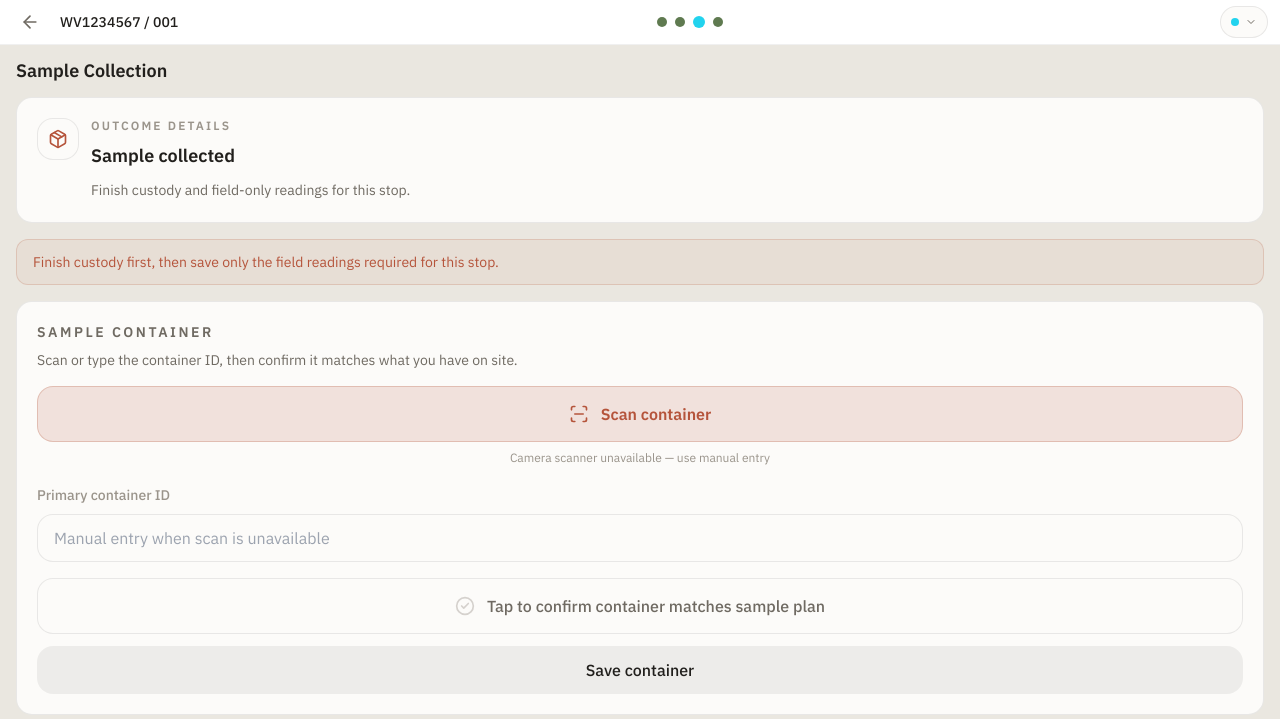
Test case: FieldVisitPage wizard › preserves inspection notes across back and next navigation
The width and height of the screenshot is (1280, 719).
Check: the navigation bar named "Field visit wizard progress" is shown, box [657,16,741,28]
Click the button named "Site Assessment".
click(680, 22)  # box [675,17,685,27]
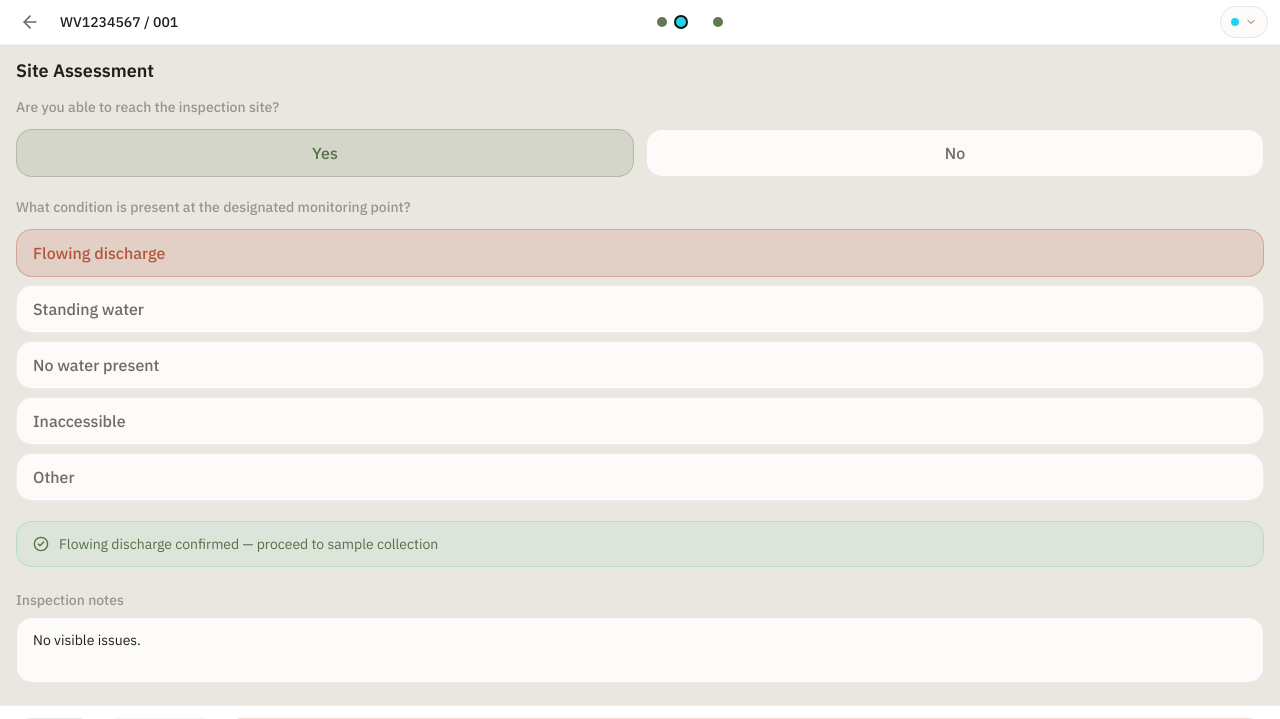
Check: the heading "Site Assessment" is shown, box [16,59,154,82]
Replace the text in the text box labelled "Inspection notes" with "Custom inspection note for persistence test." at (640, 650), box [16,617,1264,683]
(page scrolled)
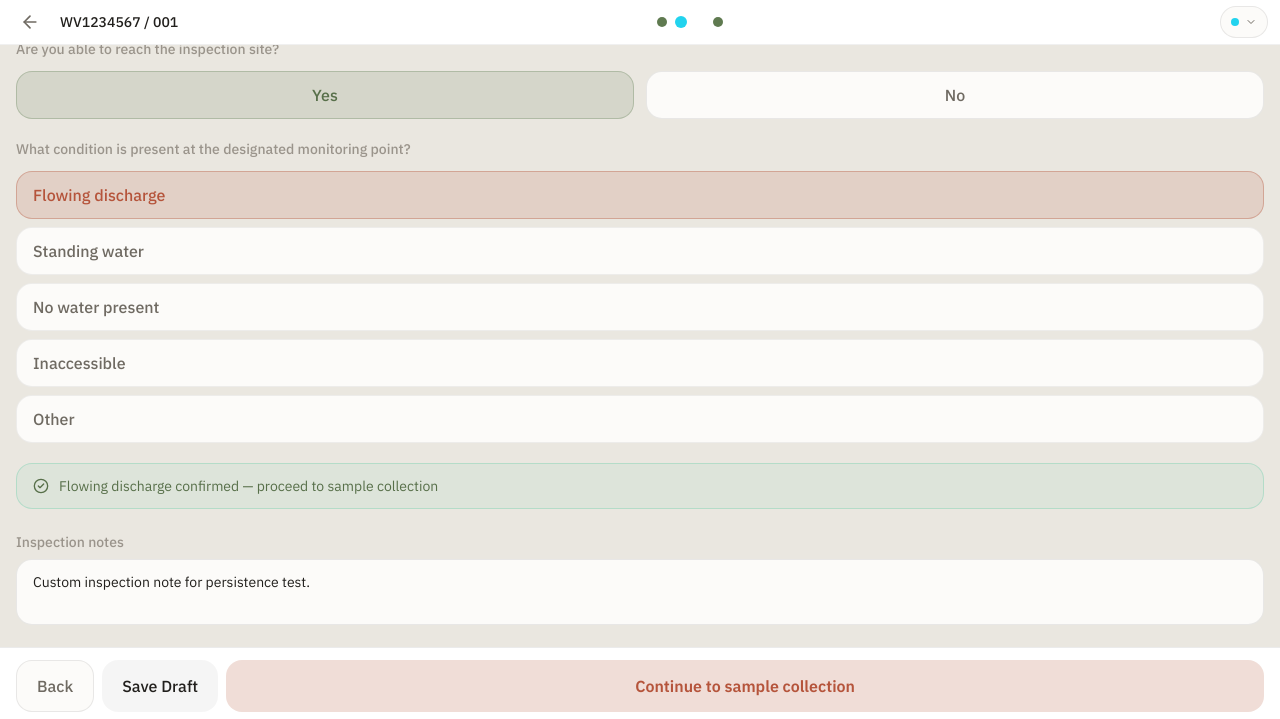
Click the button "Back".
click(55, 686)  # box [16,660,94,712]
(page scrolled)
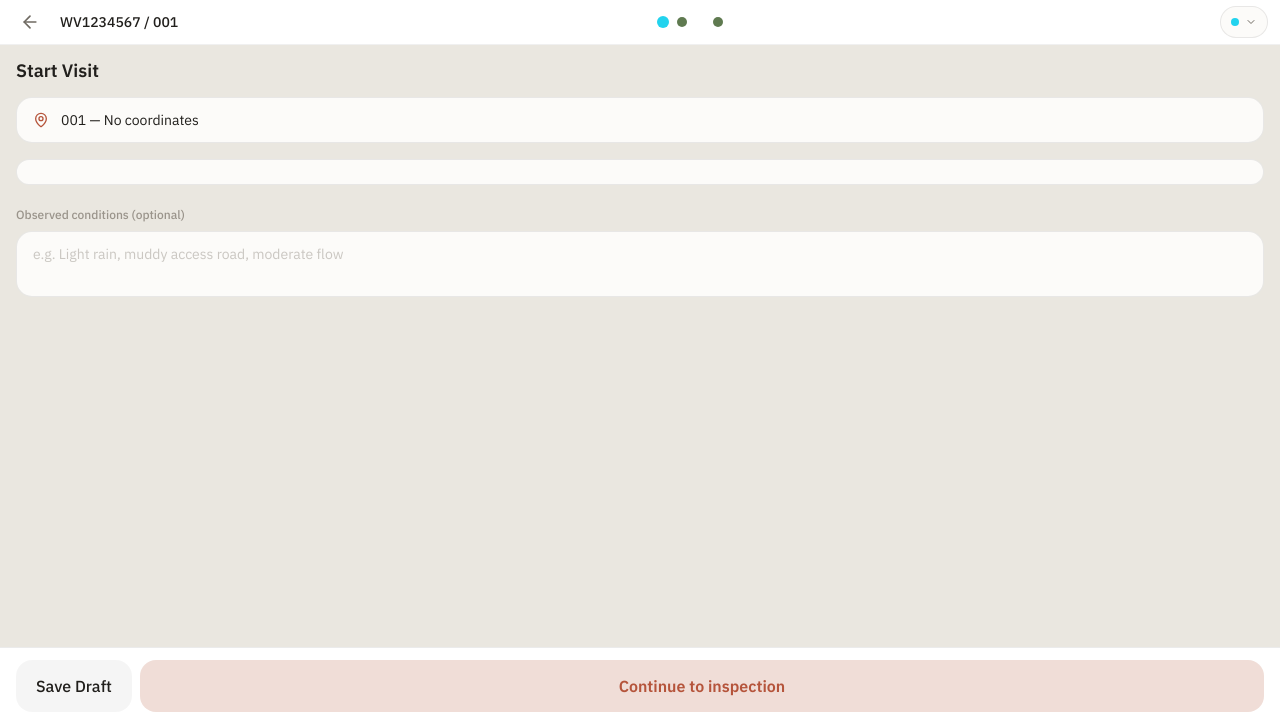
Check: the heading "Start Visit" is shown, box [16,59,99,82]
Click the button named "Site Assessment".
click(682, 22)  # box [677,17,687,27]
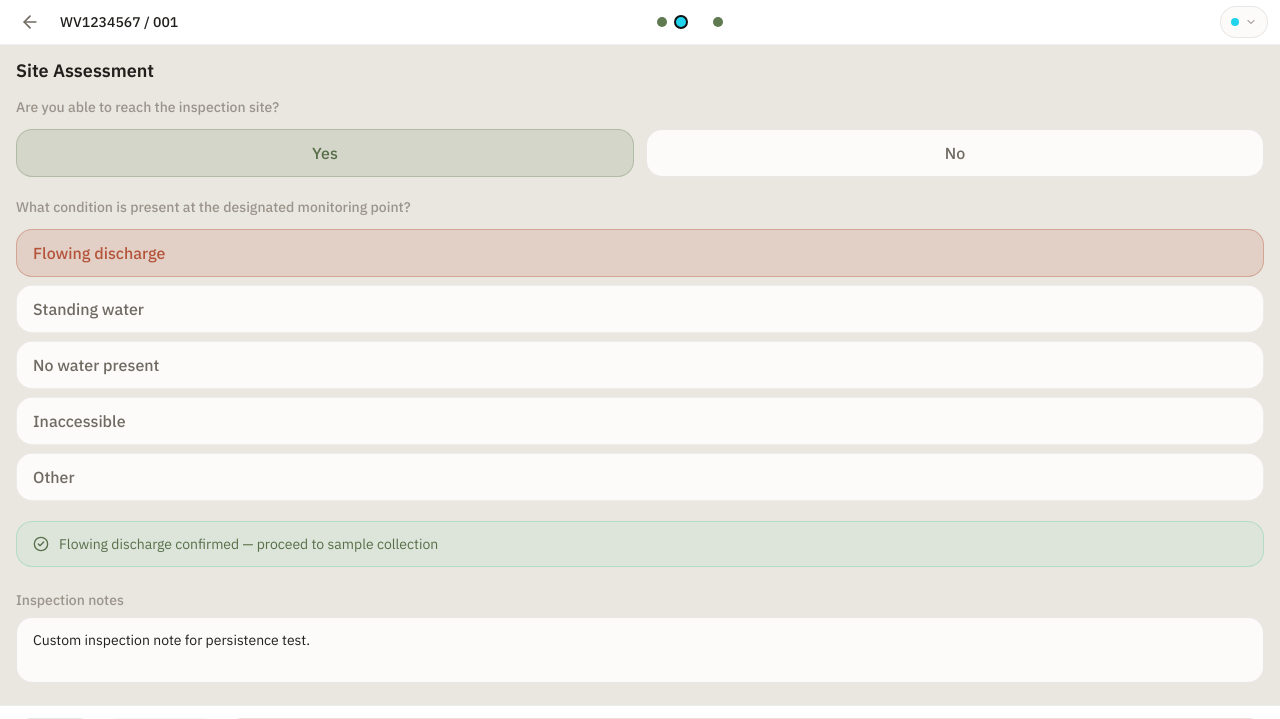
Check: the heading "Site Assessment" is shown, box [16,59,154,82]
Check: the text box labelled "Inspection notes" holds "Custom inspection note for persistence test.", box [16,617,1264,683]
